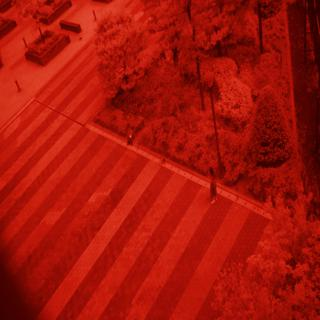person: (204, 158, 225, 208)
